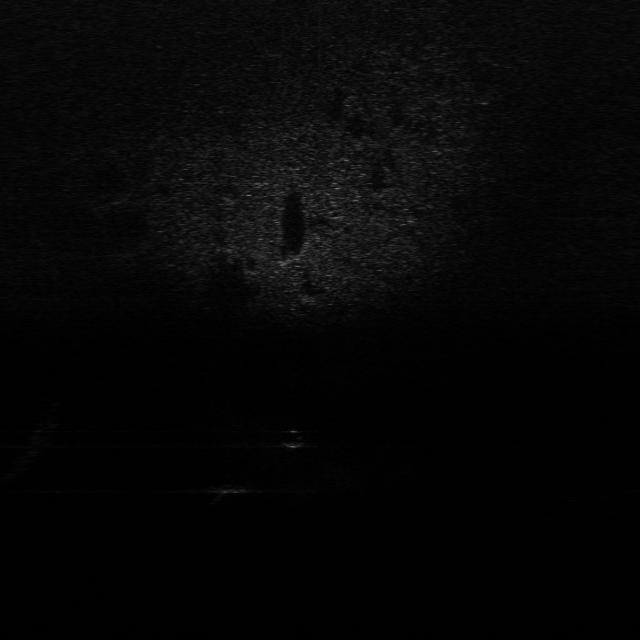ball: (276, 427, 308, 452)
square cage: (206, 482, 243, 502)
